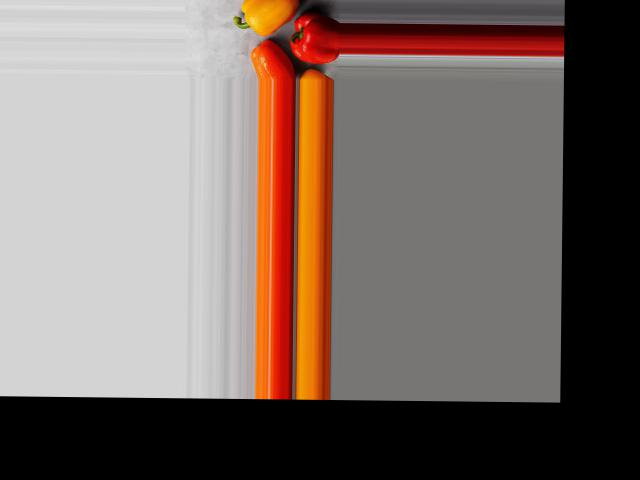bell_pepper: (289, 9, 339, 64)
